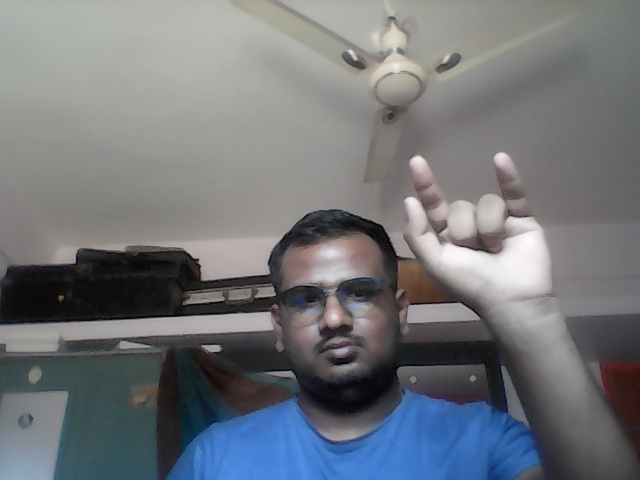I Love You: (401, 153, 562, 301)
